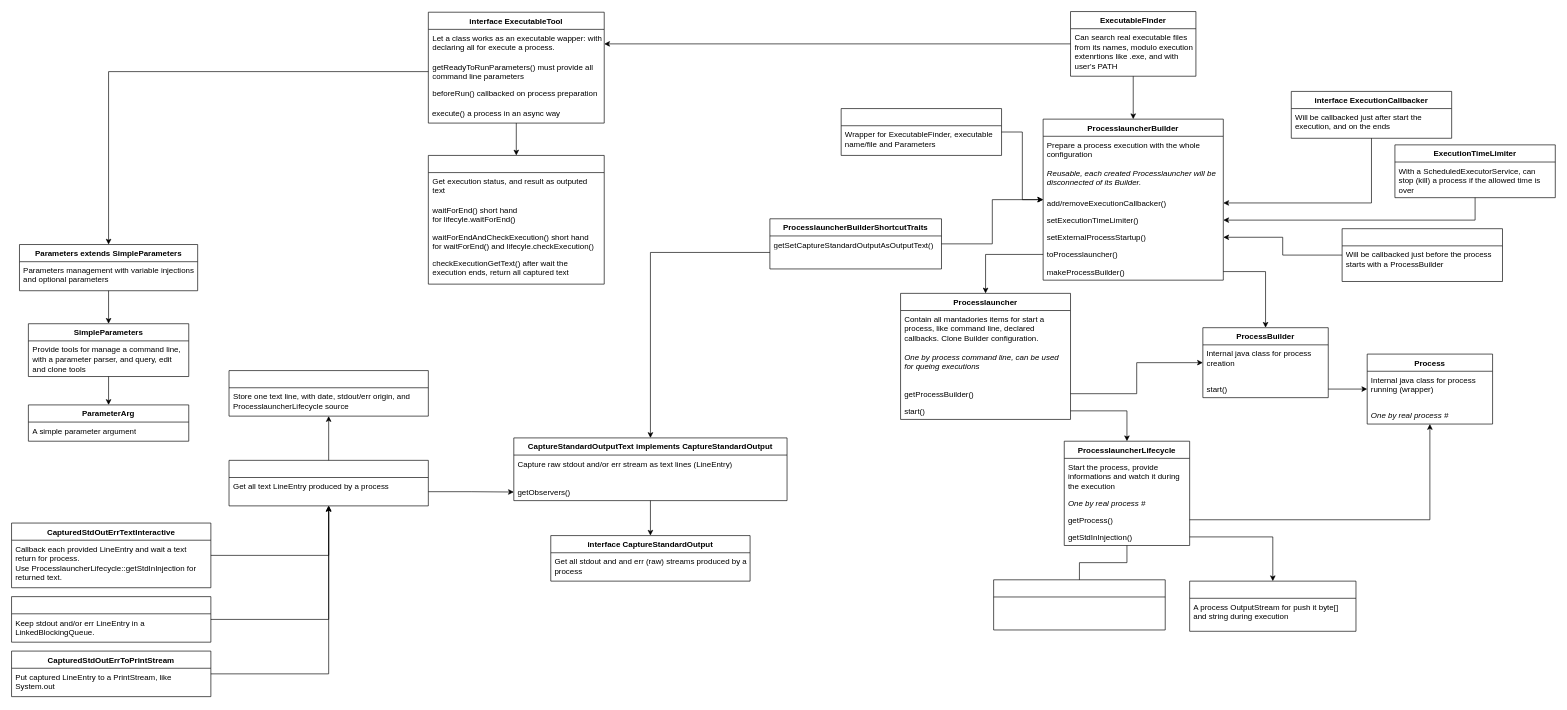
This 1567x710 diagram has some shape labels left out. Each missing label, with the box of its shape:
CapturedStdOutErrTextRetention: (11, 596, 211, 642)
CommandLine: (841, 108, 1002, 155)
ExecutableToolRunning: (428, 155, 604, 284)
interface CapturedStdOutErrTextObserver: (228, 460, 428, 506)
interface ExternalProcessStartup: (1341, 228, 1502, 281)
LineEntry: (228, 370, 428, 416)
ProcesslauncherLifecycleShortcutTraits: (993, 579, 1165, 630)
StdInInjection extends OutputStream: (1189, 580, 1356, 631)
